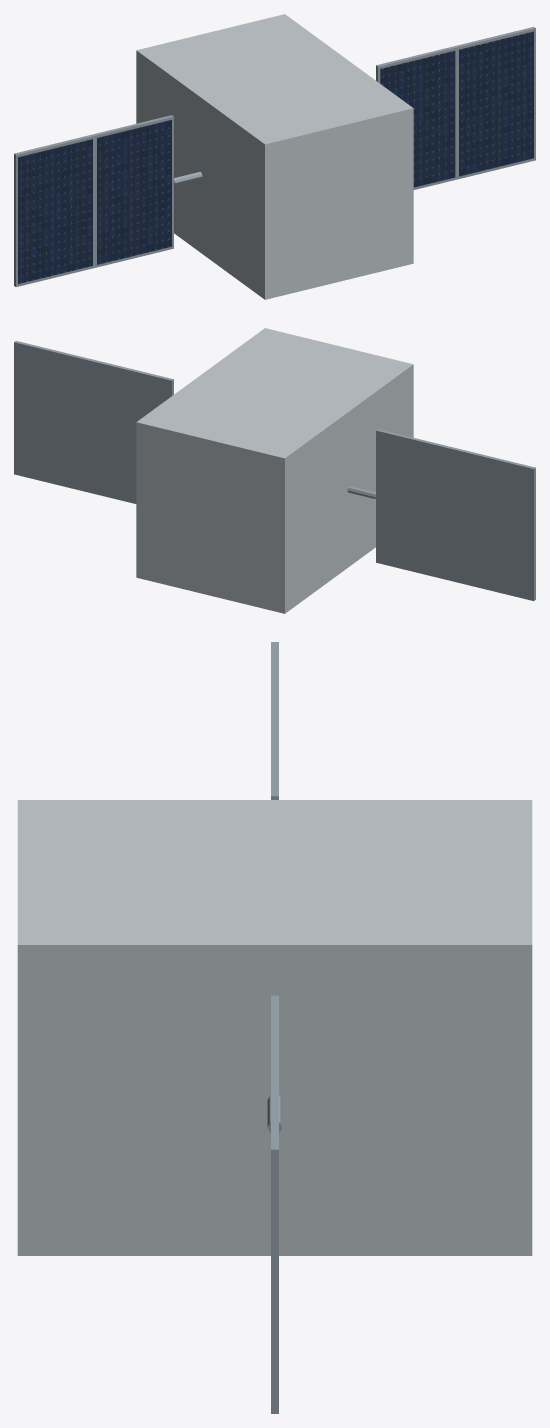
Rendered from ref-ins-2-51658.glb.
3 views of the same model, one above another, from view 1: azimuth 30°, elevation 25°; view 2: azimuth 150°, elevation 25°; view 3: azimuth 270°, elevation 25° (orthographic). The views are drawn at different scales.
Parts seen in each view (by area): view 1: Spacecraft body, Photovoltaic laminates (×4), Array frame (×4); view 2: Spacecraft body, Array frame (×4); view 3: Spacecraft body, Array frame.
Boxes of the visible parts, x1,y1,x2,y2 form: Spacecraft body: [136, 14, 413, 299]; Photovoltaic laminates (×4): [18, 31, 533, 283]; Array frame (×4): [14, 27, 535, 286]; Spacecraft body: [136, 328, 413, 613]; Array frame (×4): [14, 341, 535, 600]; Spacecraft body: [17, 800, 532, 1255]; Array frame: [271, 1072, 278, 1413].
Bounding box in the file's own units: 0.7 × 0.2 × 0.3.
Materials: 3 (1 with a texture image).
